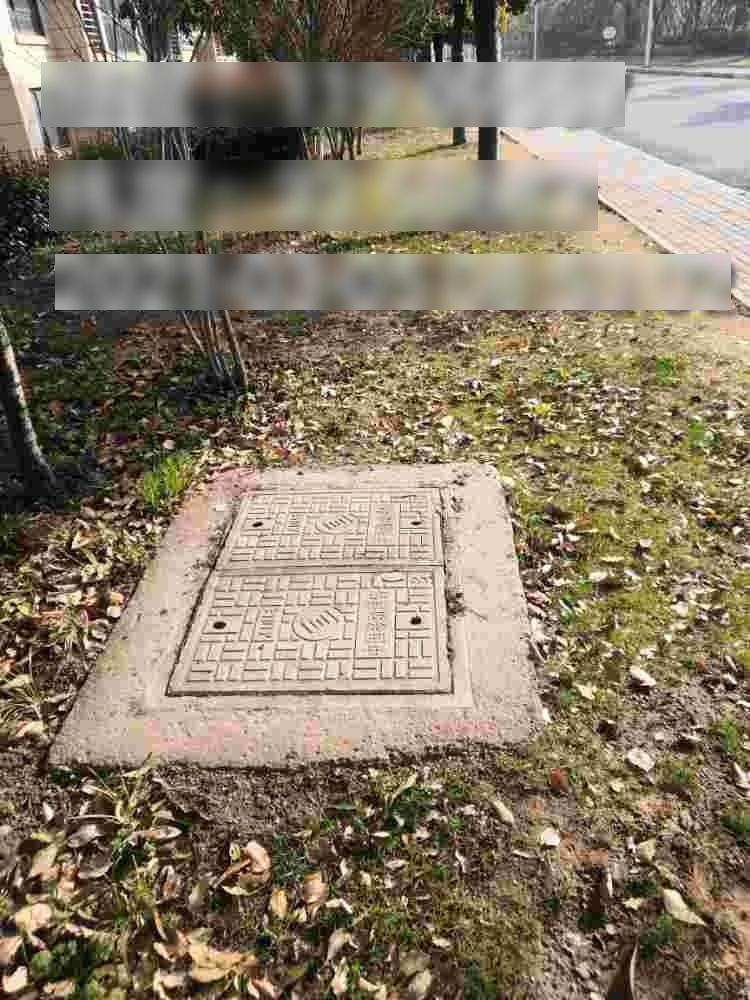good: (144, 481, 475, 710)
